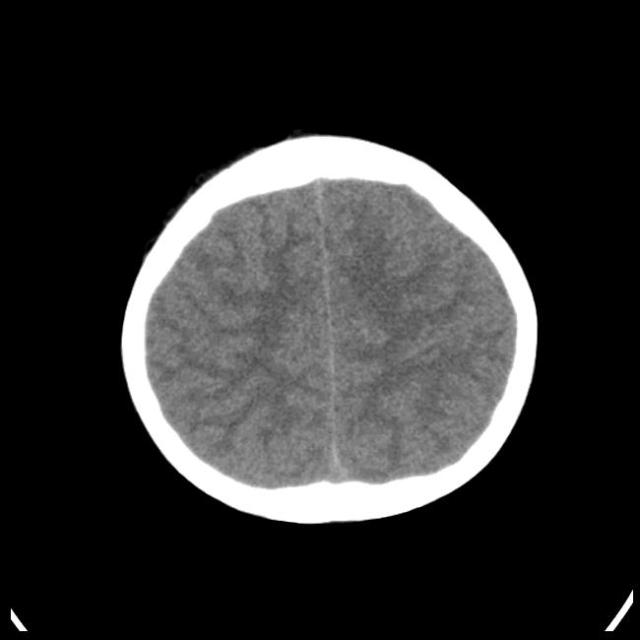lesion: (116, 129, 543, 527)
